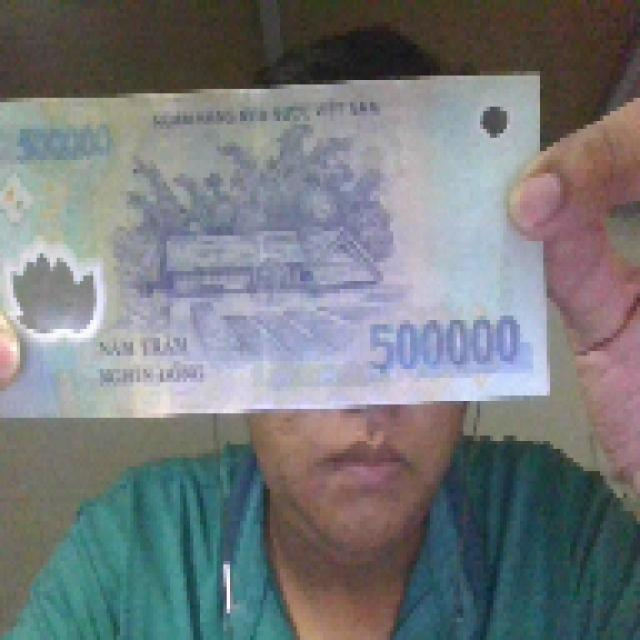500 000 VND: (0, 62, 554, 422)
